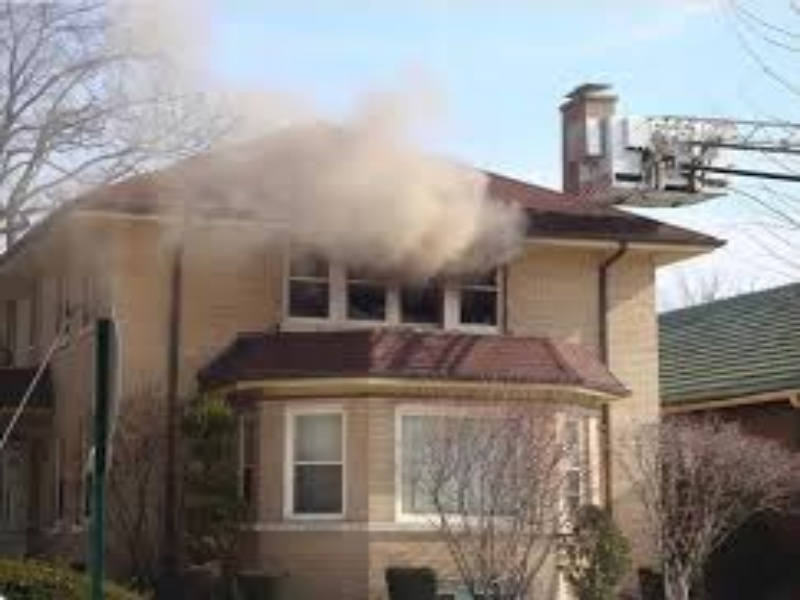smoke: (243, 91, 507, 278)
